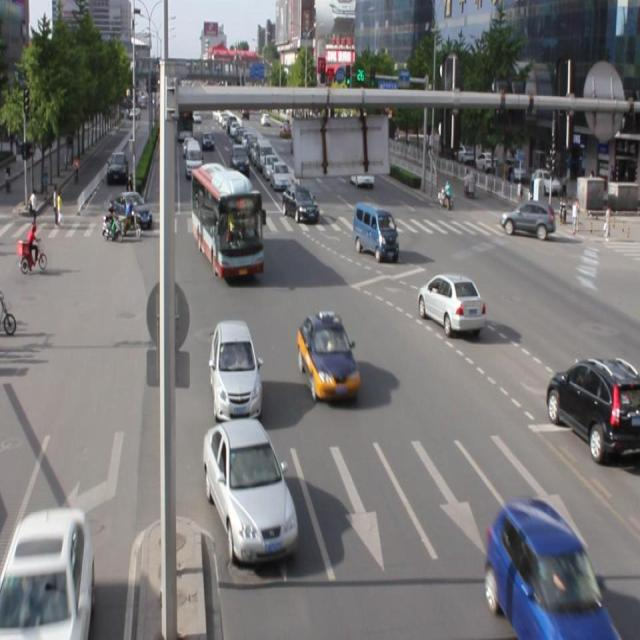car: (485, 495, 619, 640), (204, 419, 299, 564), (0, 507, 94, 640), (544, 356, 640, 461), (298, 312, 359, 405), (210, 320, 262, 422), (417, 272, 486, 336)
truck: (352, 201, 398, 261)
van: (191, 168, 264, 278)
